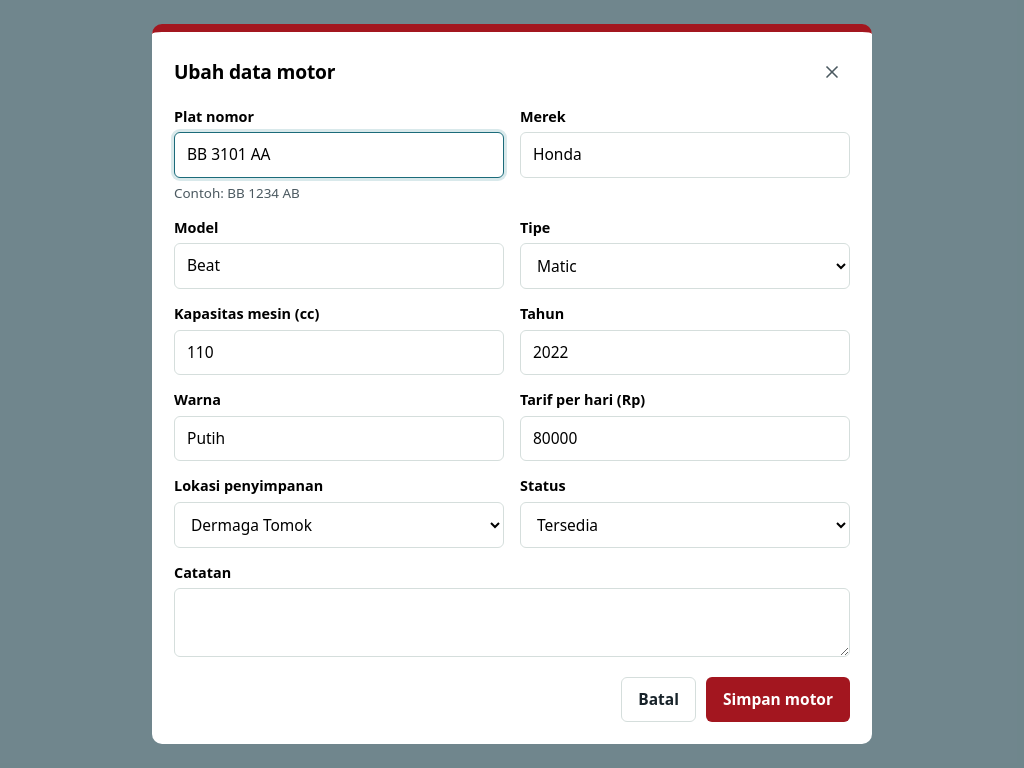
MotorForm › menampilkan error dari server (plat duplikat) pada kolom terkait
Click the button "Simpan motor".
click(778, 700)  # box [706,677,850,722]
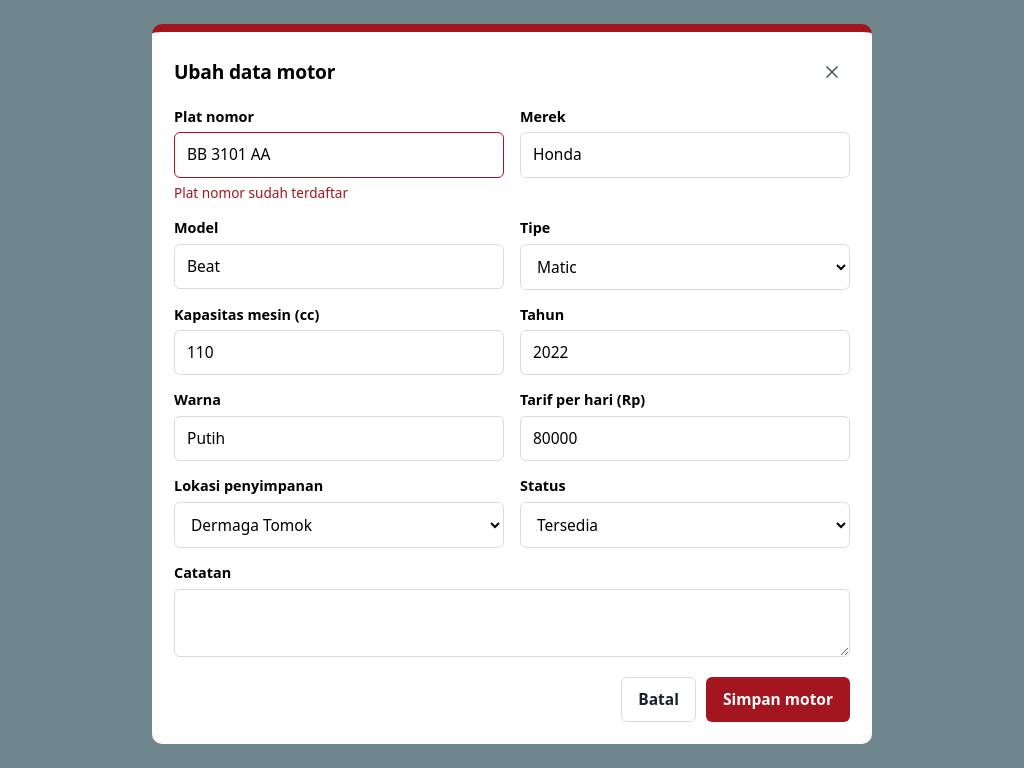
Check: the text "Plat nomor sudah terdaftar" is shown, box [174,183,348,202]
